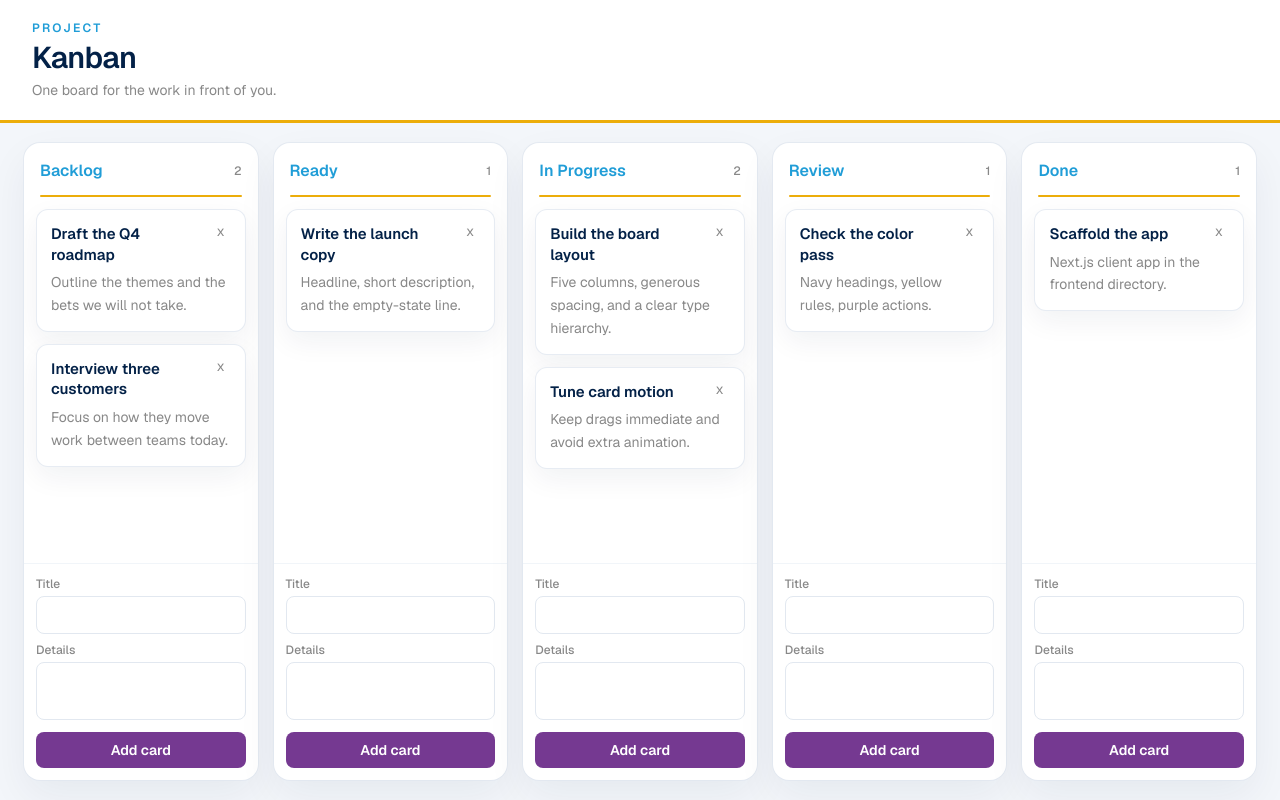
Board › deletes a card
The image size is (1280, 800).
Click the button named "Delete Draft the Q4 roadmap". click: (220, 231)
box: [210,224,231,238]
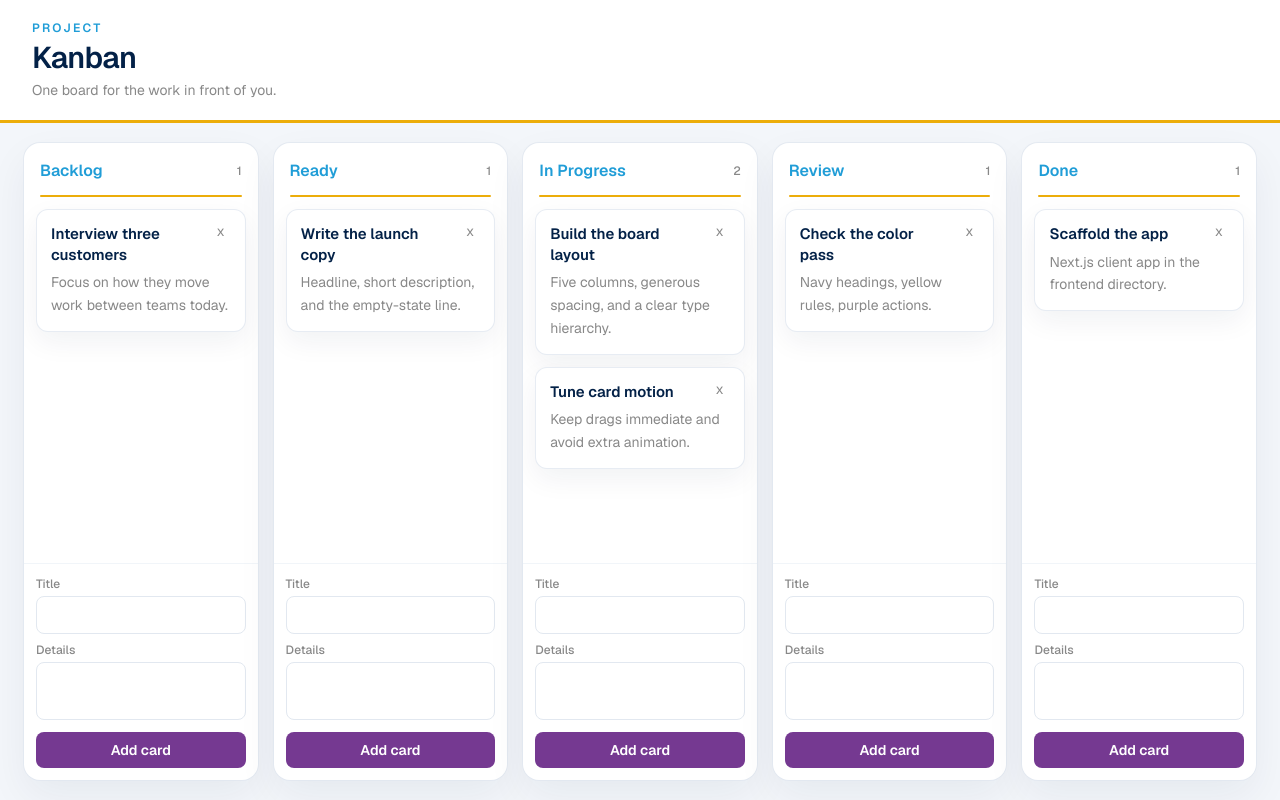
Expected: the button "Draft the Q4 roadmap" is gone
